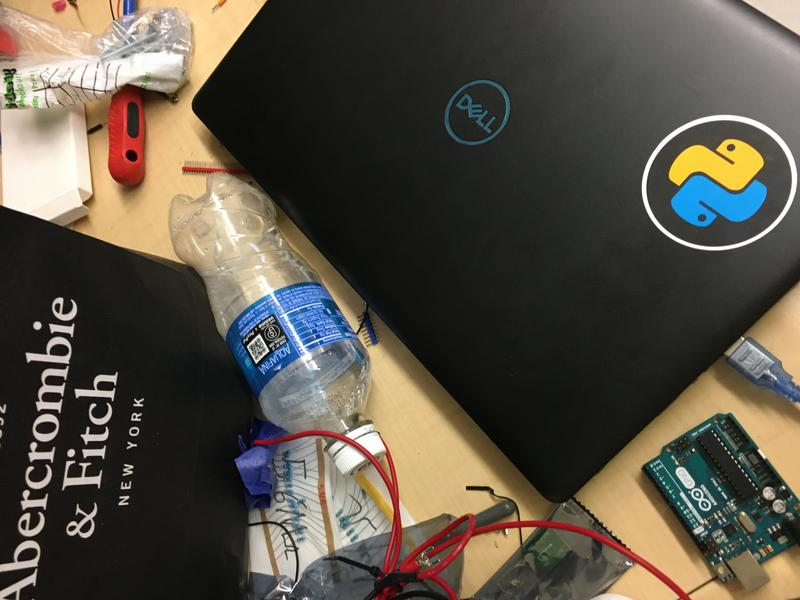bottle: (165, 167, 390, 479)
